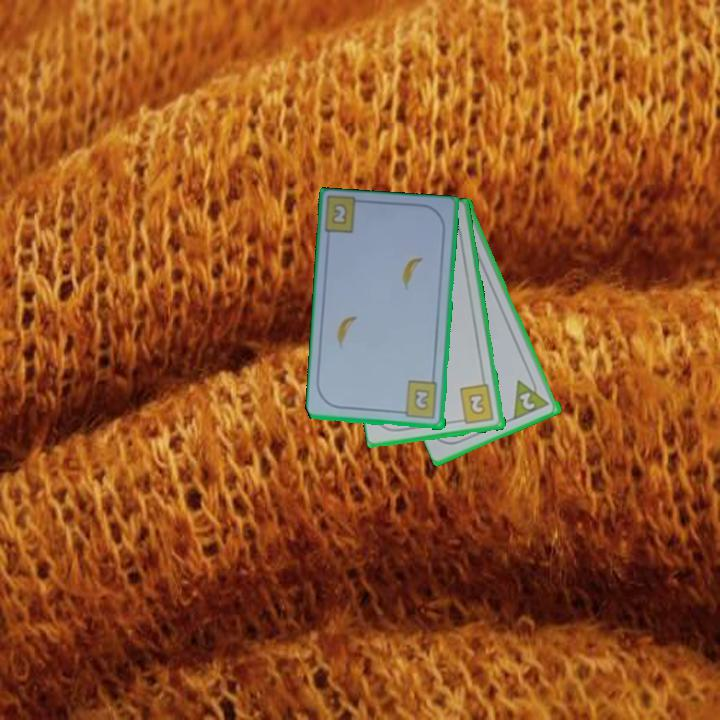2b: (396, 378, 441, 422), (455, 381, 497, 427), (330, 202, 349, 225)
2p: (516, 388, 538, 413)
